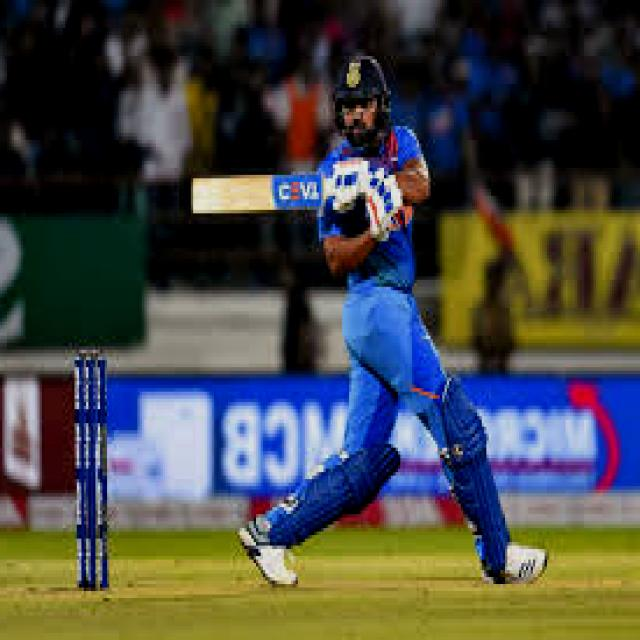toe: (182, 178, 211, 215)
